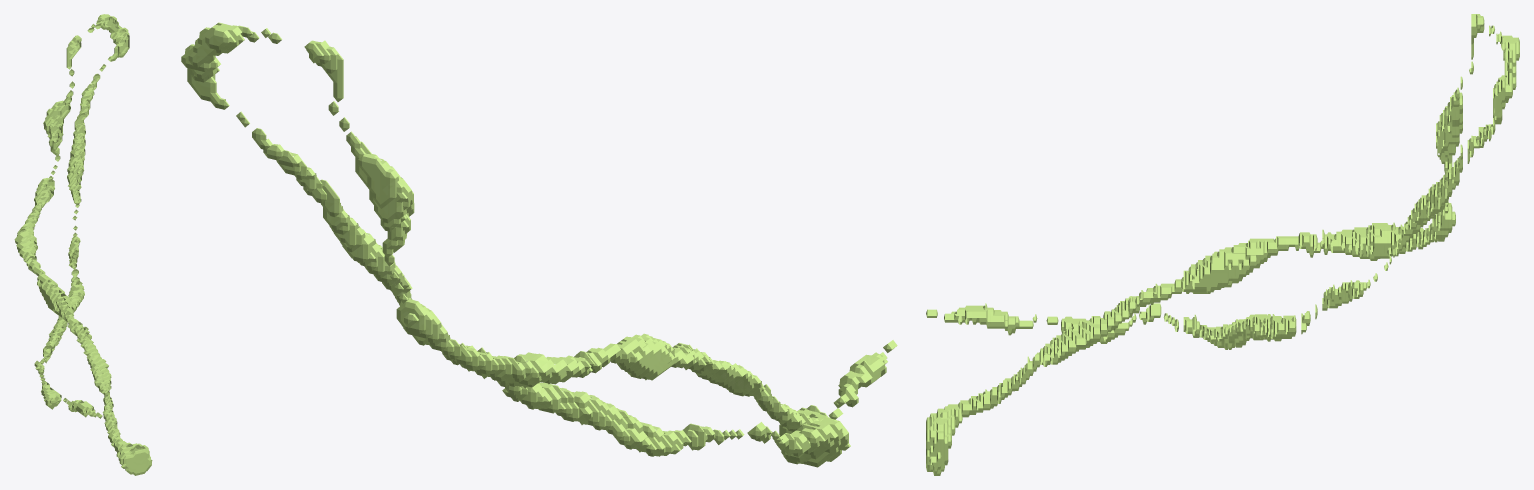
File: SVV_SIAVR.gltf
The picture shows the model from 3 angles, left to right: view 1: azimuth 30°, elevation 25°; view 2: azimuth 150°, elevation 25°; view 3: azimuth 270°, elevation 25°; orthographic projection. The views are drawn at different scales.
Parts seen in each view (by area): view 1: SIAVR; view 2: SIAVR; view 3: SIAVR.
Boxes of the visible parts, x1,y1,x2,y2 form: SIAVR: (14, 14, 152, 475); SIAVR: (181, 22, 897, 467); SIAVR: (926, 14, 1519, 475).
Bounding box in the file's own units: 45089 × 64543 × 64291.
